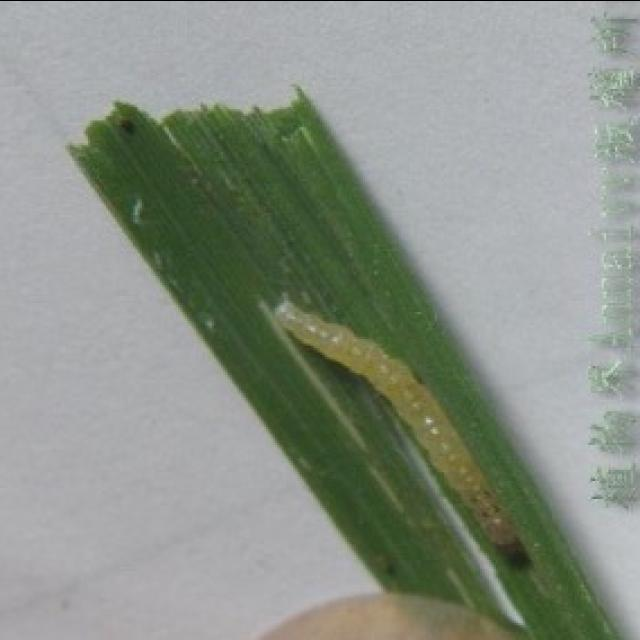brown plant hopper: (275, 304, 516, 545)
